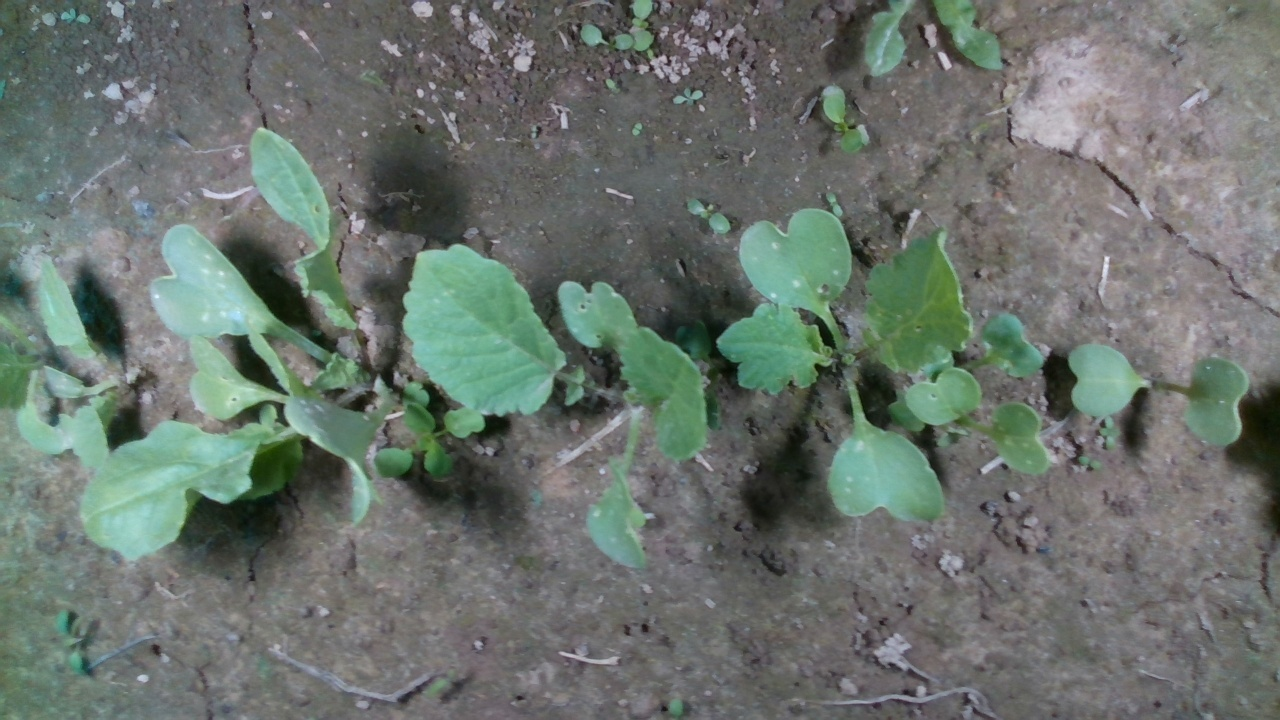weed: (821, 91, 865, 153), (683, 194, 733, 238), (627, 117, 656, 141), (674, 86, 709, 105)
